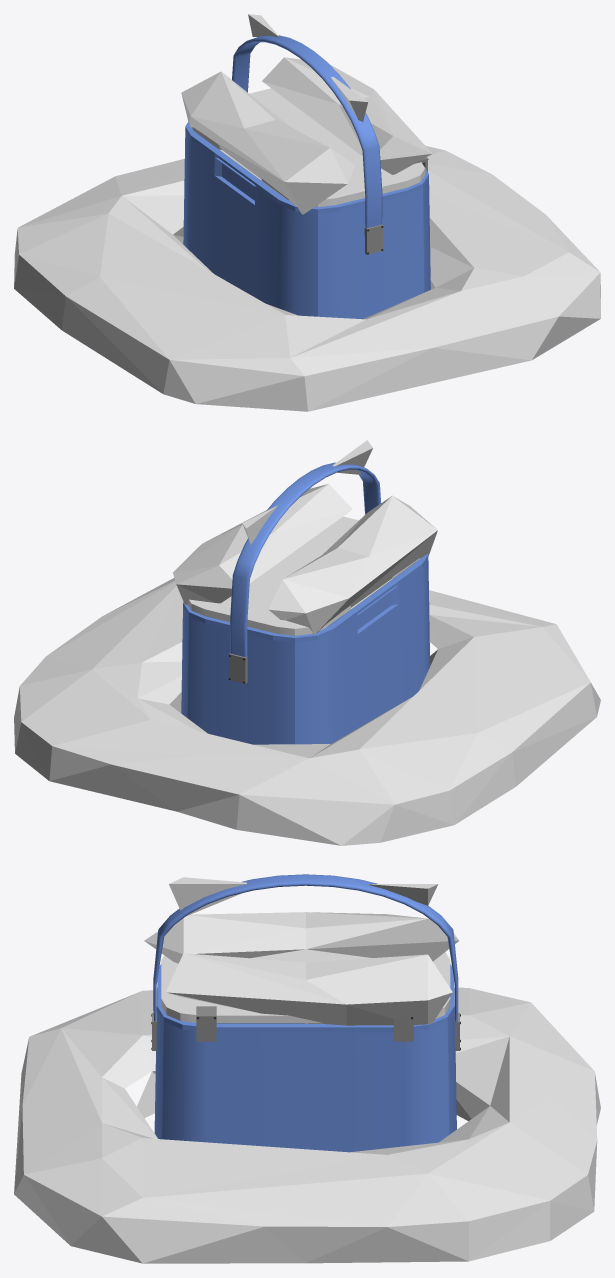
File: foodCoolingBox-Sn2.fbx
3 renders of one model, top to bottom at view 1: azimuth 30°, elevation 25°; view 2: azimuth 150°, elevation 25°; view 3: azimuth 270°, elevation 25°, orthographic. The views are drawn at different scales.
Visible parts, largest first — view 1: snow, CoolingBox; view 2: snow, CoolingBox; view 3: snow, CoolingBox.
Part boxes in pixels (<box>): snow: <box>14,14,600,411</box>; CoolingBox: <box>183,35,430,319</box>; snow: <box>14,440,600,845</box>; CoolingBox: <box>181,462,430,744</box>; snow: <box>14,877,600,1263</box>; CoolingBox: <box>151,874,460,1152</box>.
Size of the model in its own units: 7.13 by 3.85 by 7.2.
